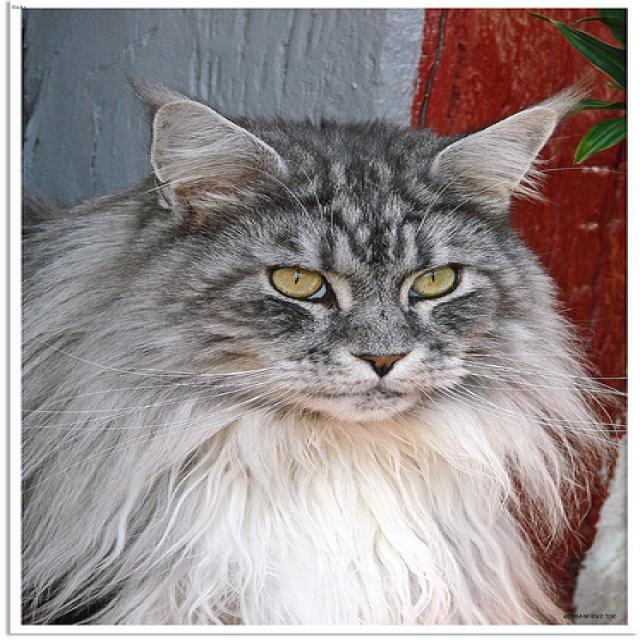Maine_Coon: (136, 89, 566, 430)
